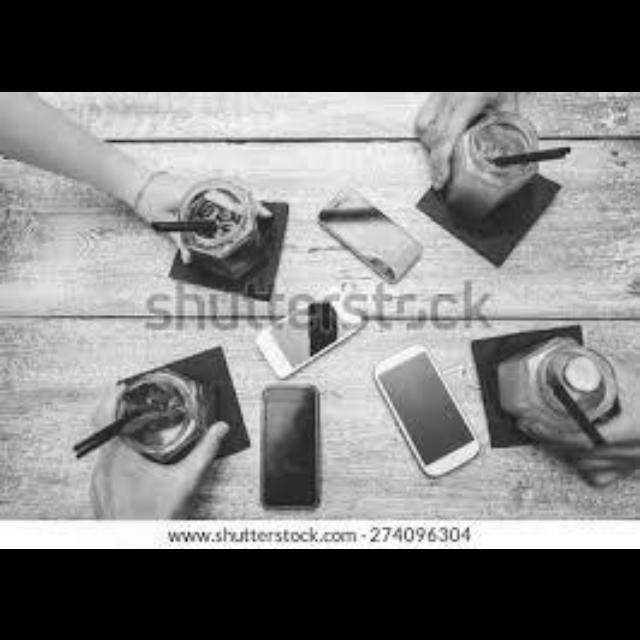fake: (356, 346, 496, 496), (310, 166, 429, 304), (234, 288, 376, 382), (250, 386, 336, 520)
